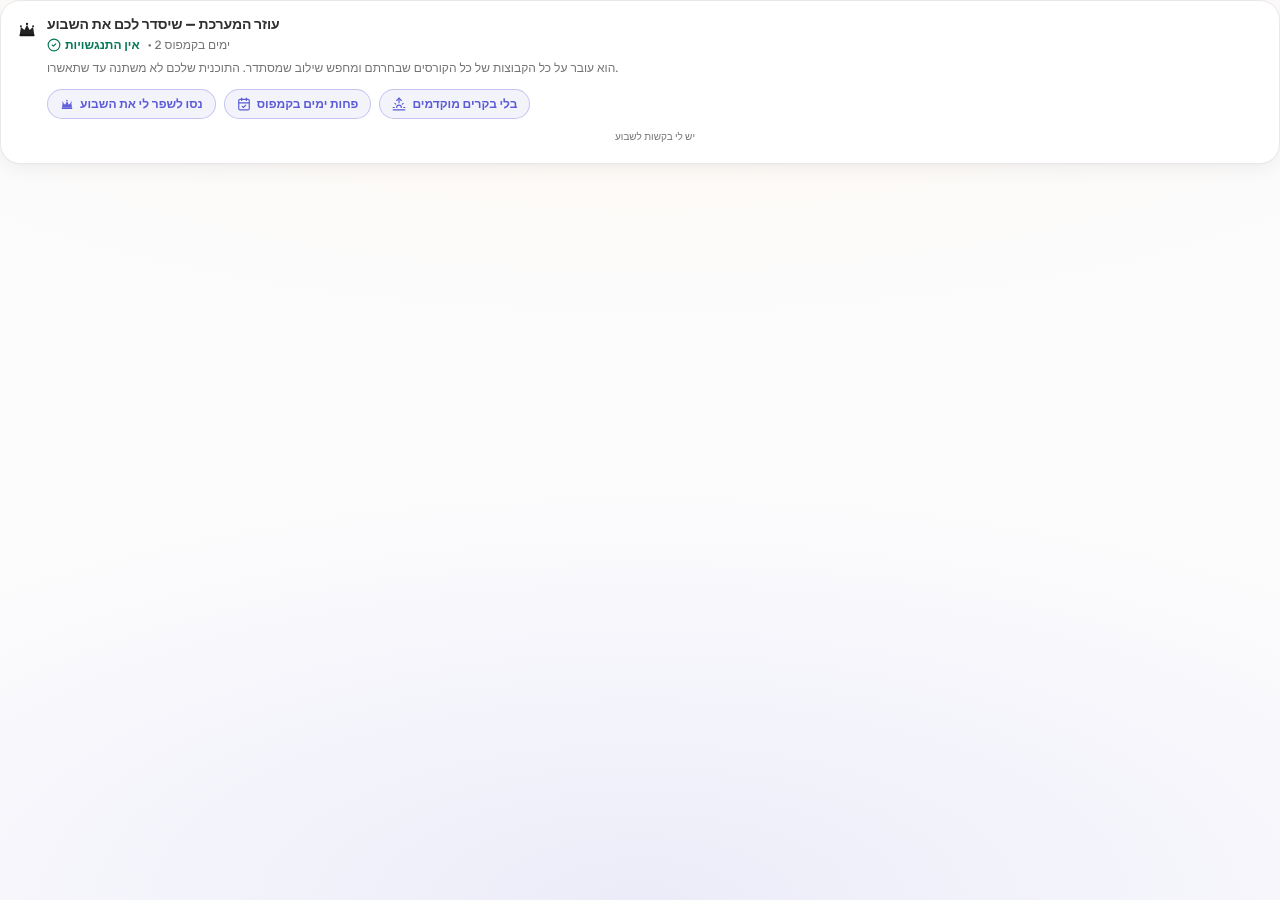
Test case: #8 — combination constraints, now on the assistant card › states plainly that a constraint is a wish, not a rule
Step 1. Click the button "יש לי בקשות לשבוע" → [655, 137], box [47,128,1263,147]
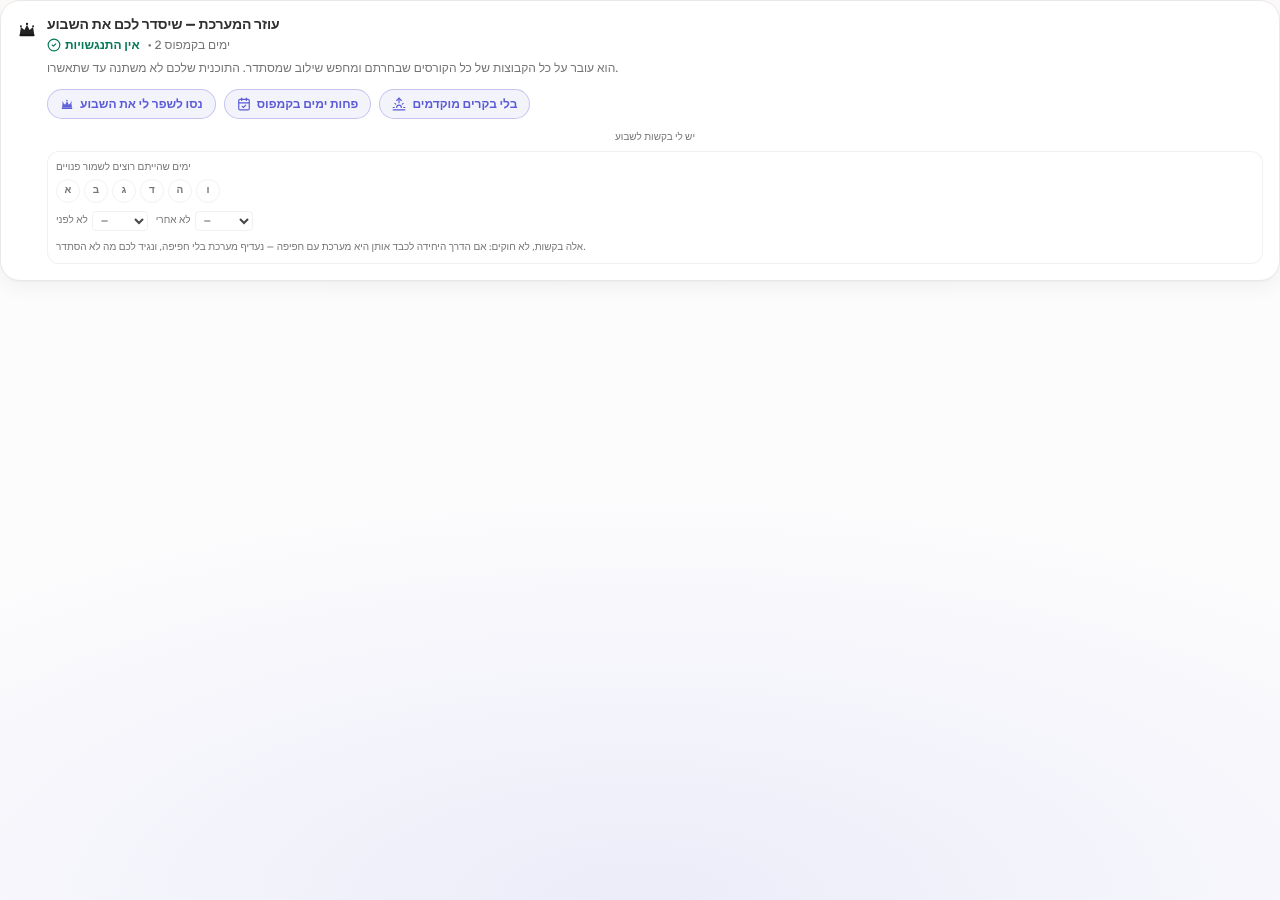
Check: the text "אלה בקשות, לא חוקים" is shown, box [56,241,586,253]
